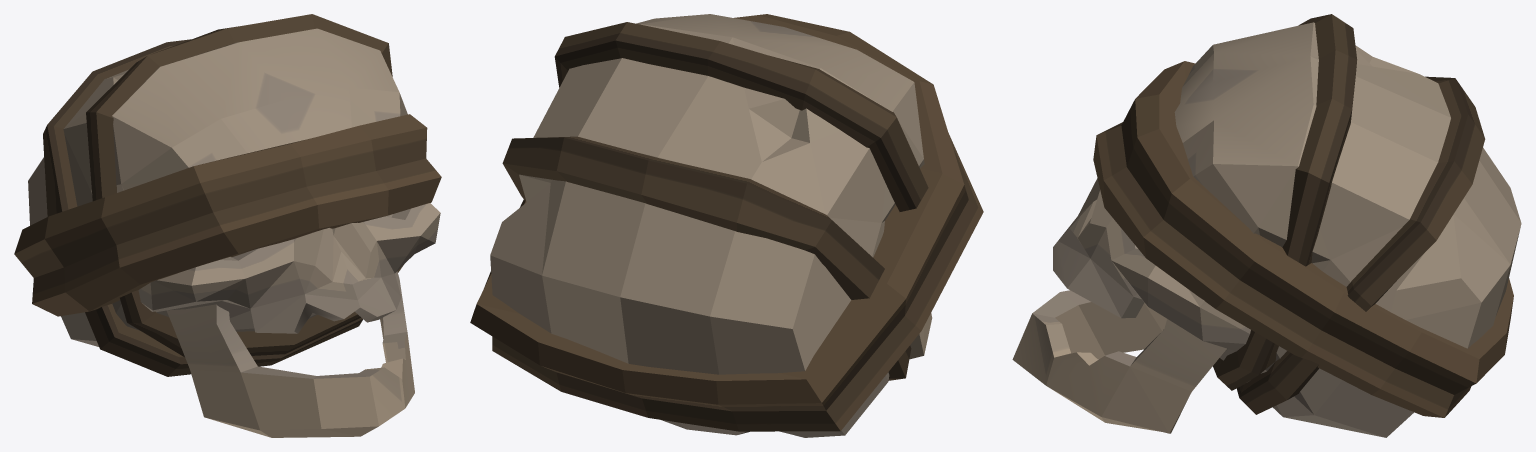
File: SM_Prop_Skull_04.fbx
The picture shows the model from 3 angles, left to right: view 1: azimuth 30°, elevation 25°; view 2: azimuth 150°, elevation 25°; view 3: azimuth 270°, elevation 25°; orthographic projection. The views are drawn at different scales.
Parts seen in each view (by area): view 1: SM_Prop_Skull_04; view 2: SM_Prop_Skull_04; view 3: SM_Prop_Skull_04.
Part boxes in pixels (<box>): SM_Prop_Skull_04: <box>14,14,441,437</box>; SM_Prop_Skull_04: <box>470,14,983,437</box>; SM_Prop_Skull_04: <box>1012,14,1521,437</box>.
Size of the model in its own units: 24.98 by 22.56 by 30.36.
